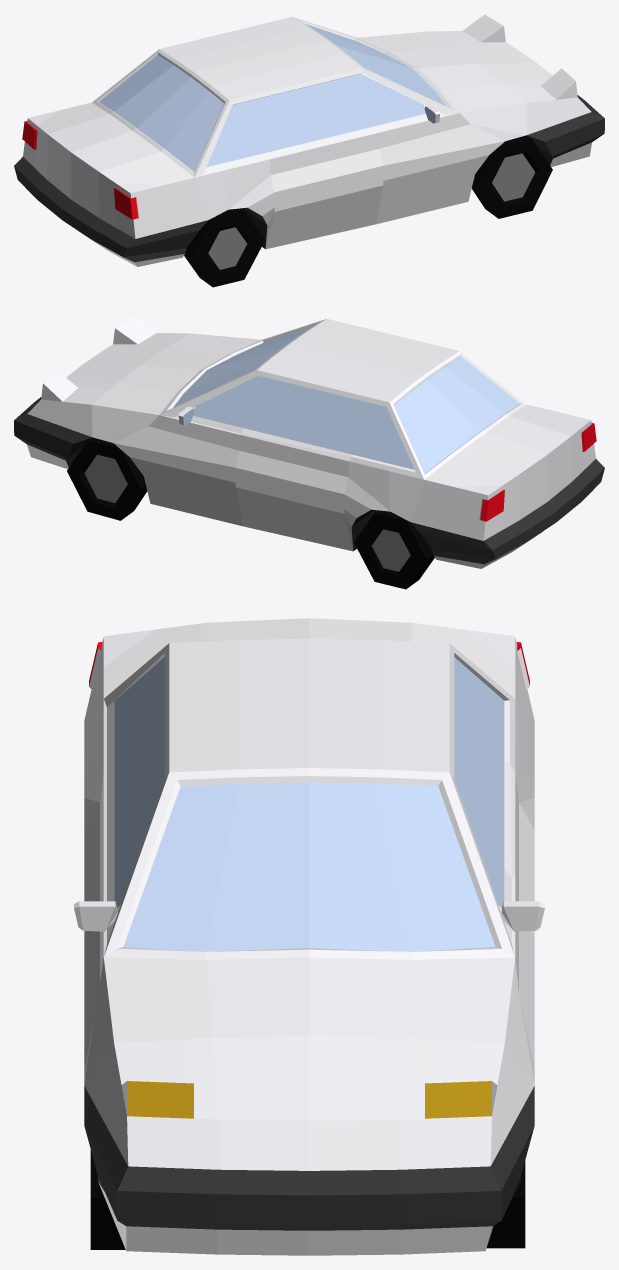
3 views of the same model, one above another, from view 1: azimuth 30°, elevation 25°; view 2: azimuth 150°, elevation 25°; view 3: azimuth 270°, elevation 25° (orthographic). The views are drawn at different scales.
Parts seen in each view (by area): view 1: AE86; view 2: AE86; view 3: AE86.
Boxes of the visible parts, <box> form: AE86: <box>14,14,604,287</box>; AE86: <box>14,316,604,589</box>; AE86: <box>74,618,544,1255</box>.
Size of the model in its own units: 298 by 95.76 by 122.
